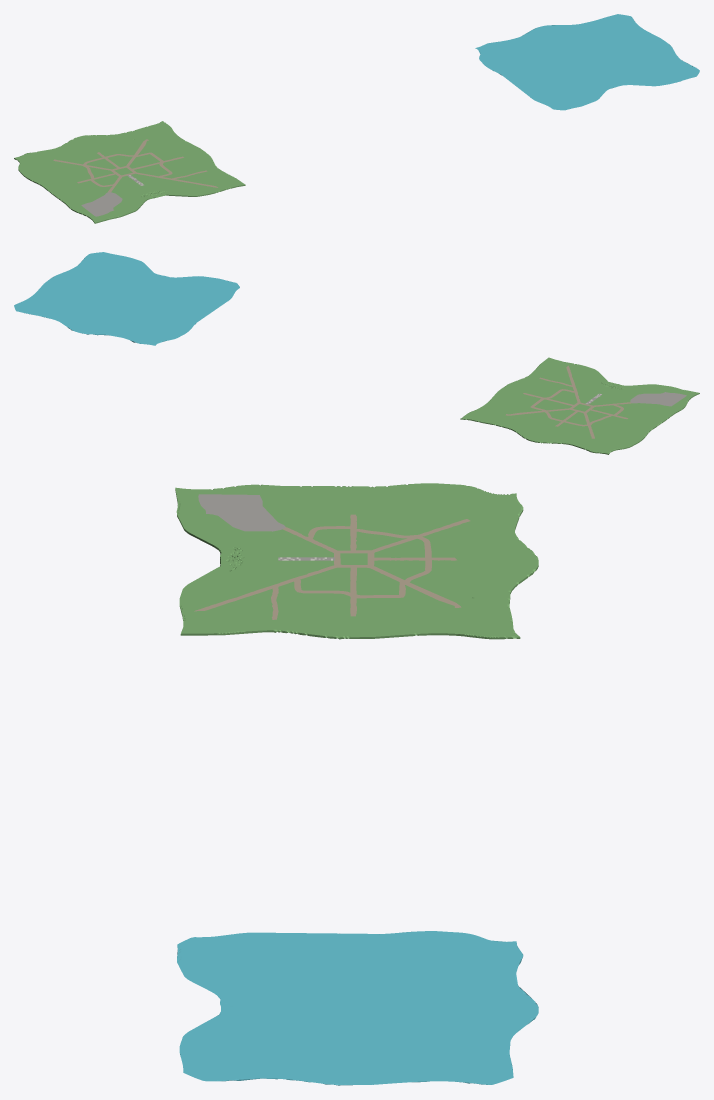
The model's file is persistent_base.glb.
The picture shows the model from 3 angles, top to bottom: view 1: azimuth 30°, elevation 25°; view 2: azimuth 150°, elevation 25°; view 3: azimuth 270°, elevation 25°; orthographic projection. The views are drawn at different scales.
Visible parts, largest first — view 1: Cube.001, Cube.003, path, Grid; view 2: Cube.001, Cube.003, path, Grid; view 3: Cube.001, Cube.003, path, Grid.
Part boxes in pixels (x1,y1,x2,y2): Cube.001: (475, 14, 699, 110); Cube.003: (14, 121, 245, 223); path: (53, 139, 217, 192); Grid: (81, 192, 122, 216); Cube.001: (14, 252, 239, 345); Cube.003: (460, 357, 699, 454); path: (506, 365, 631, 438); Grid: (630, 392, 686, 406); Cube.001: (177, 931, 538, 1085); Cube.003: (175, 483, 538, 639); path: (194, 514, 470, 619); Grid: (198, 494, 285, 531).
Size of the model in its own units: 1051 by 5.73 by 271.
